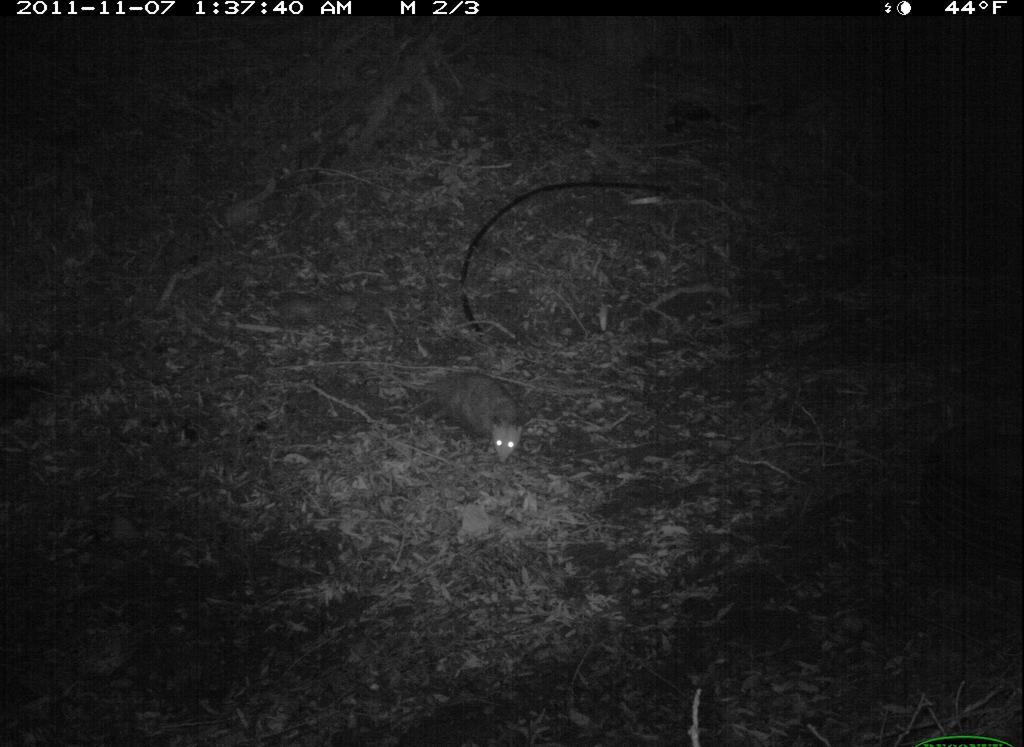opossum: (377, 350, 539, 474)
